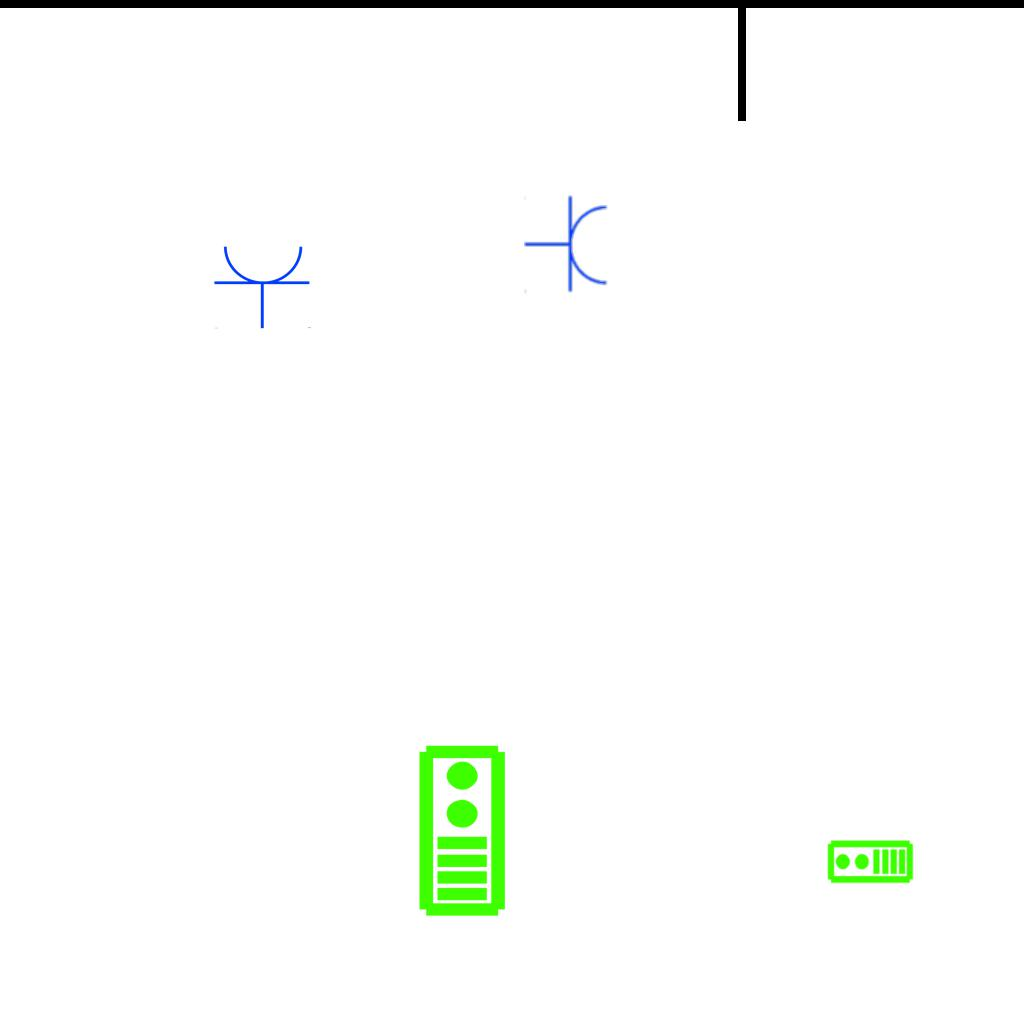Gegensprechanlage_mit_Video: (413, 742, 508, 918), (826, 839, 914, 886)
Schukosteckdose_einfach: (213, 242, 313, 329), (524, 195, 611, 295)
